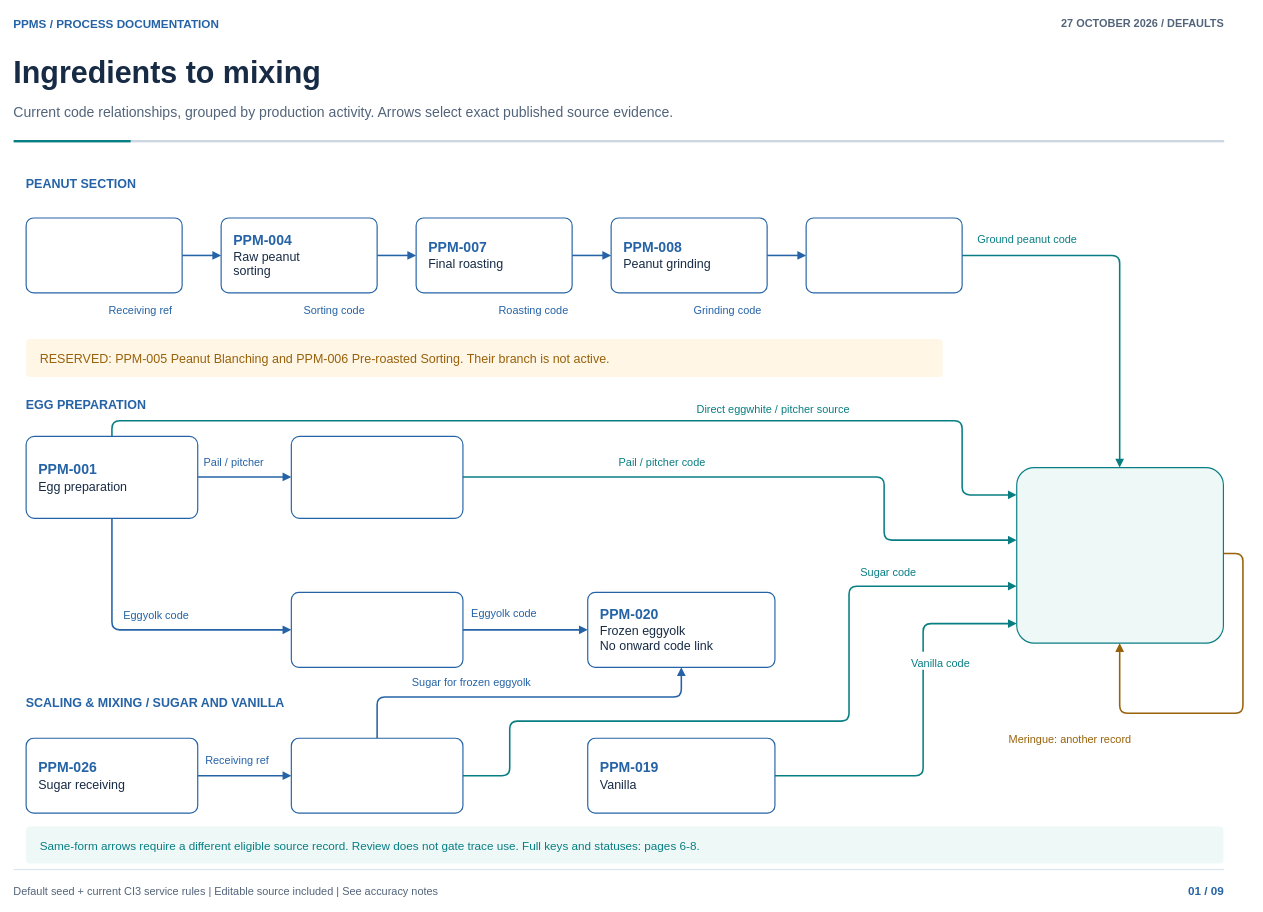
This 1263x912 diagram has some shape labels left out. The centre of each missing label's shape, as x and y in pixels:
"PPM-002 Eggwhites Pail / pitcher" belongs at [376,477].
"PPM-003 Eggyolk" belongs at [376,629].
"PPM-009 Ground peanuts" belongs at [883,255].
"PPM-010 Sugar" belongs at [376,775].
"PPM-011 Mixing - Meringue Meringue entries Mixture entries Ground peanut lots" belongs at [1120,555].
"PPM-021 Raw peanut receiving" belongs at [103,255].
